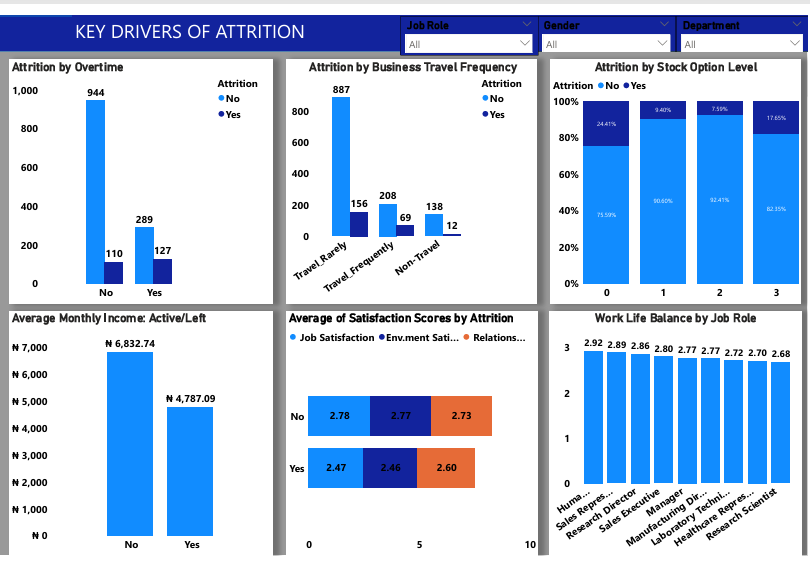

The page's visual inventory and layout, read from the dashboard file:
{"tool":"powerbi","page":{"name":"Attrition Drivers","canvas":[1620,1080],"ordinal":1},"visuals":[{"type":"clusteredColumnChart","title":"Attrition by Overtime","fields":{"Category":["WA_Fn-UseC_-HR-Employee-Attriti.OverTime"],"Y":["CountNonNull(WA_Fn-UseC_-HR-Employee-Attriti.Employee Number)"],"Series":["WA_Fn-UseC_-HR-Employee-Attriti.Attrition"]},"box":[23.3,88.4,527.9,488.4],"z":0},{"type":"clusteredColumnChart","title":"Attrition by Business Travel Frequency","fields":{"Category":["WA_Fn-UseC_-HR-Employee-Attriti.Business  Travel"],"Y":["CountNonNull(WA_Fn-UseC_-HR-Employee-Attriti.Employee Number)"],"Series":["WA_Fn-UseC_-HR-Employee-Attriti.Attrition"]},"box":[576.7,88.4,502.3,488.4],"z":1000},{"type":"hundredPercentStackedColumnChart","title":"Attrition by Stock Option Level ","fields":{"Category":["WA_Fn-UseC_-HR-Employee-Attriti.Stock Option Level"],"Y":["CountNonNull(WA_Fn-UseC_-HR-Employee-Attriti.Employee Number)"],"Series":["WA_Fn-UseC_-HR-Employee-Attriti.Attrition"]},"box":[1104.7,88.4,502.3,488.4],"z":2000},{"type":"barChart","title":"Average of Satisfaction Scores by Attrition","fields":{"Category":["WA_Fn-UseC_-HR-Employee-Attriti.Attrition"],"Y":["Avg(WA_Fn-UseC_-HR-Employee-Attriti.Job Satisfaction)","Avg(WA_Fn-UseC_-HR-Employee-Attriti.Environment Satisfaction)","Avg(WA_Fn-UseC_-HR-Employee-Attriti.Relationship Satisfaction)"]},"box":[576.6,591.5,504.3,489.4],"z":3000},{"type":"columnChart","title":"Work Life Balance by Job Role","fields":{"Category":["WA_Fn-UseC_-HR-Employee-Attriti.Job Role"],"Y":["Avg(WA_Fn-UseC_-HR-Employee-Attriti.Work Life Balance)"]},"box":[1104.3,591.5,504.3,489.4],"z":4000},{"type":"columnChart","title":"Average Monthly Income: Active/Left","fields":{"Category":["WA_Fn-UseC_-HR-Employee-Attriti.Attrition"],"Y":["Avg(WA_Fn-UseC_-HR-Employee-Attriti.Monthly Income)"]},"box":[23.4,591.5,527.7,489.4],"z":5000},{"type":"shape","box":[-12,0,1632,72],"z":6000},{"type":"textbox","box":[148.8,0,979.1,72.1],"z":7000},{"type":"slicer","fields":{"Values":["WA_Fn-UseC_-HR-Employee-Attriti.Department"]},"box":[1355.8,0,265.1,72.1],"z":8000},{"type":"slicer","fields":{"Values":["WA_Fn-UseC_-HR-Employee-Attriti.Gender"]},"box":[1079.1,0,276.7,72.1],"z":9000},{"type":"slicer","fields":{"Values":["WA_Fn-UseC_-HR-Employee-Attriti.Job Role"]},"box":[804.7,0,276.7,79.1],"z":10000}]}

Visuals, with their boxes on the page's 1620x1080 design canvas (x1, y1, x2, y2). These are canvas units, not pixel positions in the 810x567 screenshot, which may show the page scaled, cropped or inside an application window:
"Attrition by Overtime" clusteredColumnChart: <region>23, 88, 551, 577</region>
"Attrition by Business Travel Frequency" clusteredColumnChart: <region>577, 88, 1079, 577</region>
"Attrition by Stock Option Level " hundredPercentStackedColumnChart: <region>1105, 88, 1607, 577</region>
"Average of Satisfaction Scores by Attrition" barChart: <region>577, 592, 1081, 1081</region>
"Work Life Balance by Job Role" columnChart: <region>1104, 592, 1609, 1081</region>
"Average Monthly Income: Active/Left" columnChart: <region>23, 592, 551, 1081</region>
shape: <region>-12, 0, 1620, 72</region>
textbox: <region>149, 0, 1128, 72</region>
slicer - WA_Fn-UseC_-HR-Employee-Attriti.Department: <region>1356, 0, 1621, 72</region>
slicer - WA_Fn-UseC_-HR-Employee-Attriti.Gender: <region>1079, 0, 1356, 72</region>
slicer - WA_Fn-UseC_-HR-Employee-Attriti.Job Role: <region>805, 0, 1081, 79</region>
